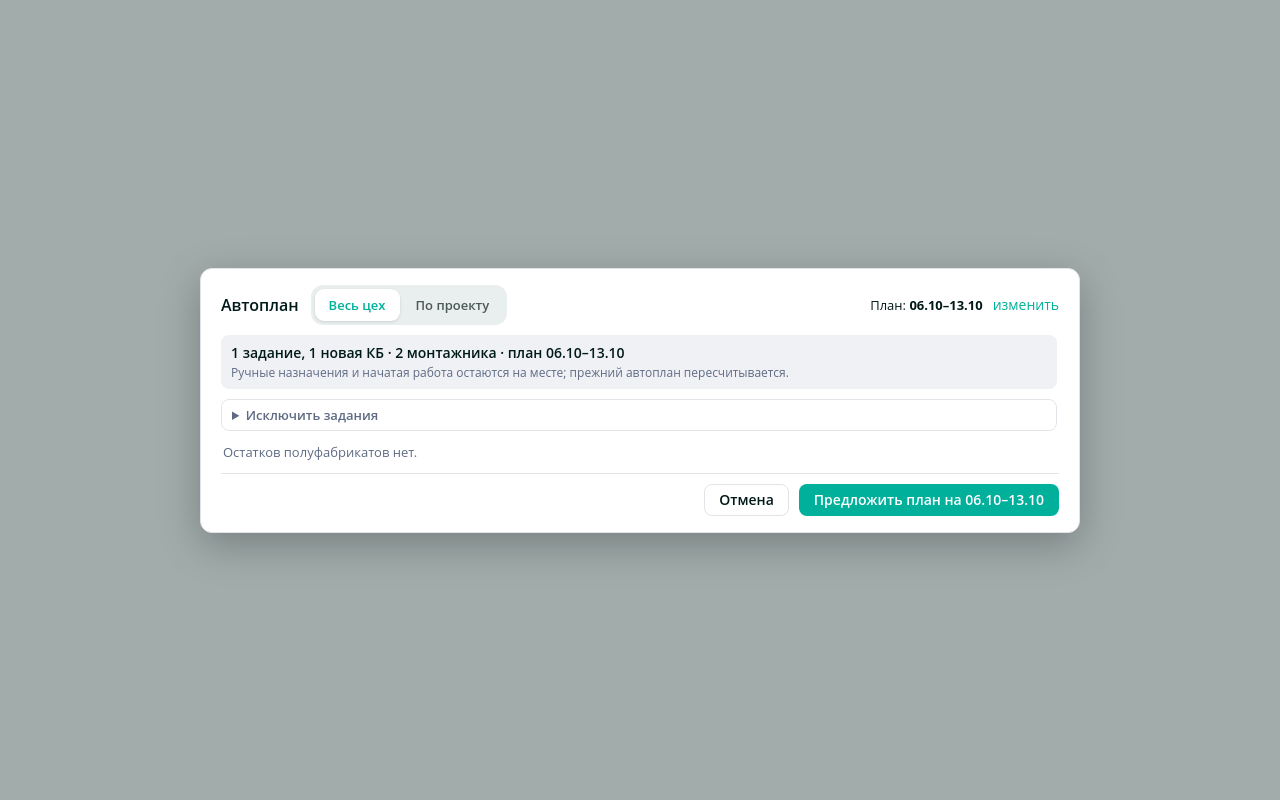
groups the preview by fitter and setup batch and marks the work of a new task
Click the button "Предложить план на 06.10–13.10".
click(929, 500)  # box [799, 484, 1059, 516]
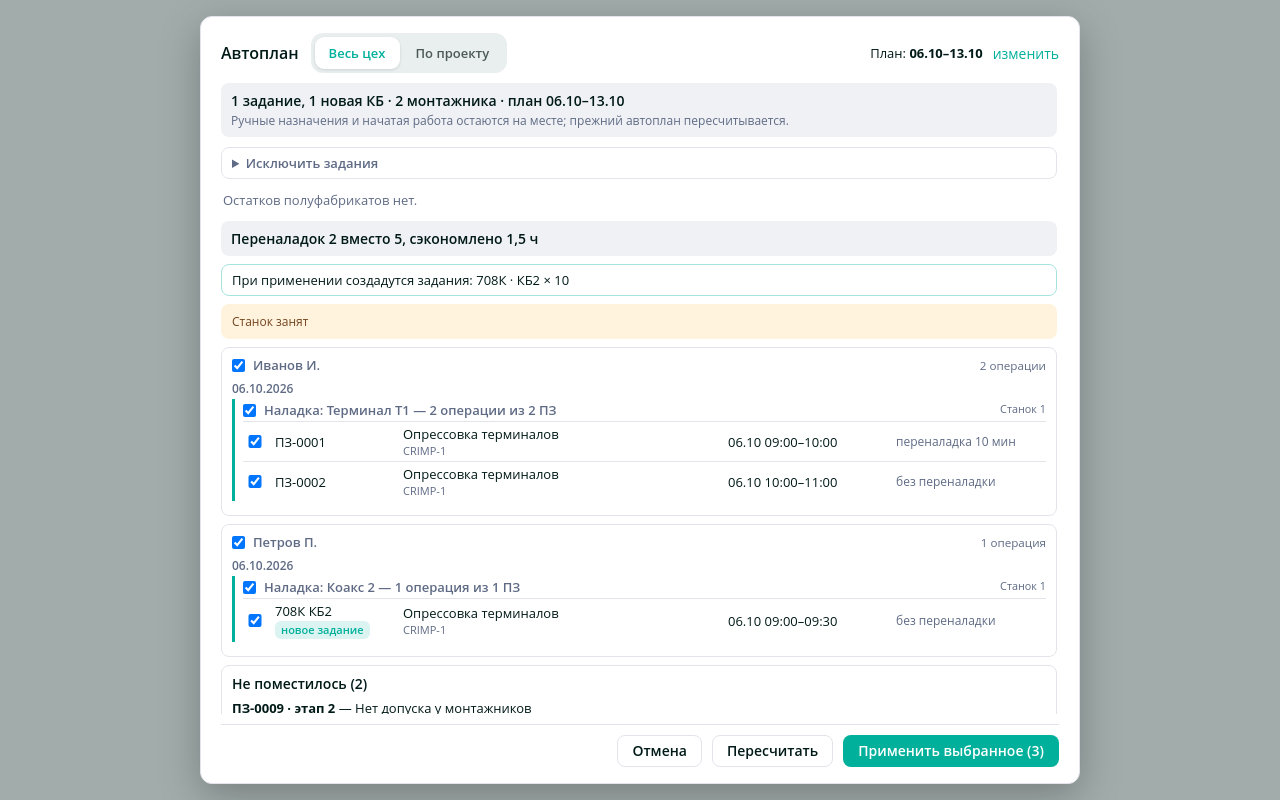
Result: the text "Переналадок 2 вместо 5, сэкономлено 1,5 ч" is shown at [221, 221, 1057, 256]
Result: the text "При применении создадутся задания: 708К · КБ2 × 10" is shown at [221, 264, 1057, 296]
Result: the element named "Монтажник Иванов И." is shown at [221, 347, 1057, 516]
